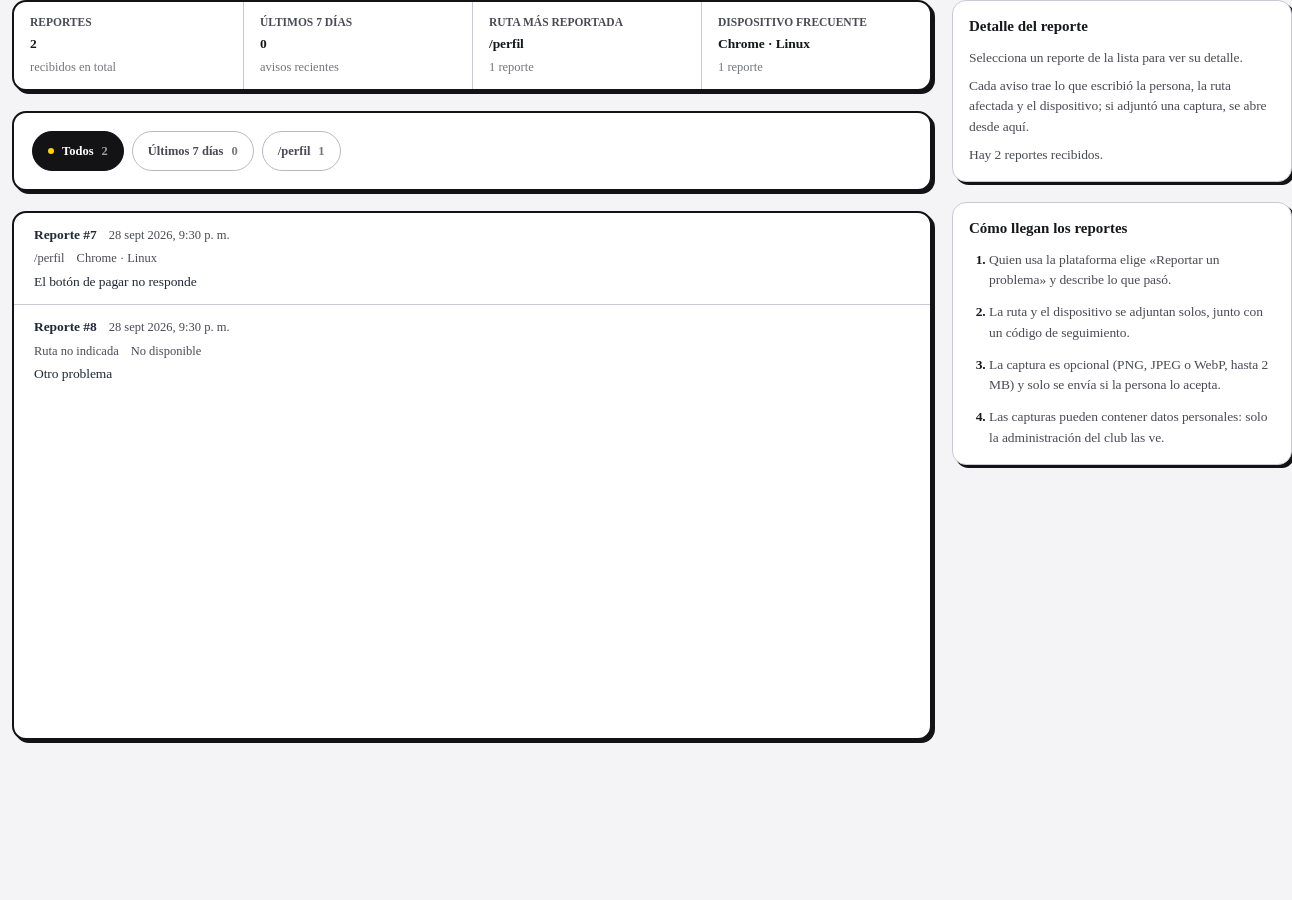
Test case: bandeja de reportes › keeps a detail failure next to the detail, with retry, and the list intact
The width and height of the screenshot is (1292, 900).
Click the button "Reporte #7" at [62, 235], box [14,213,930,304]
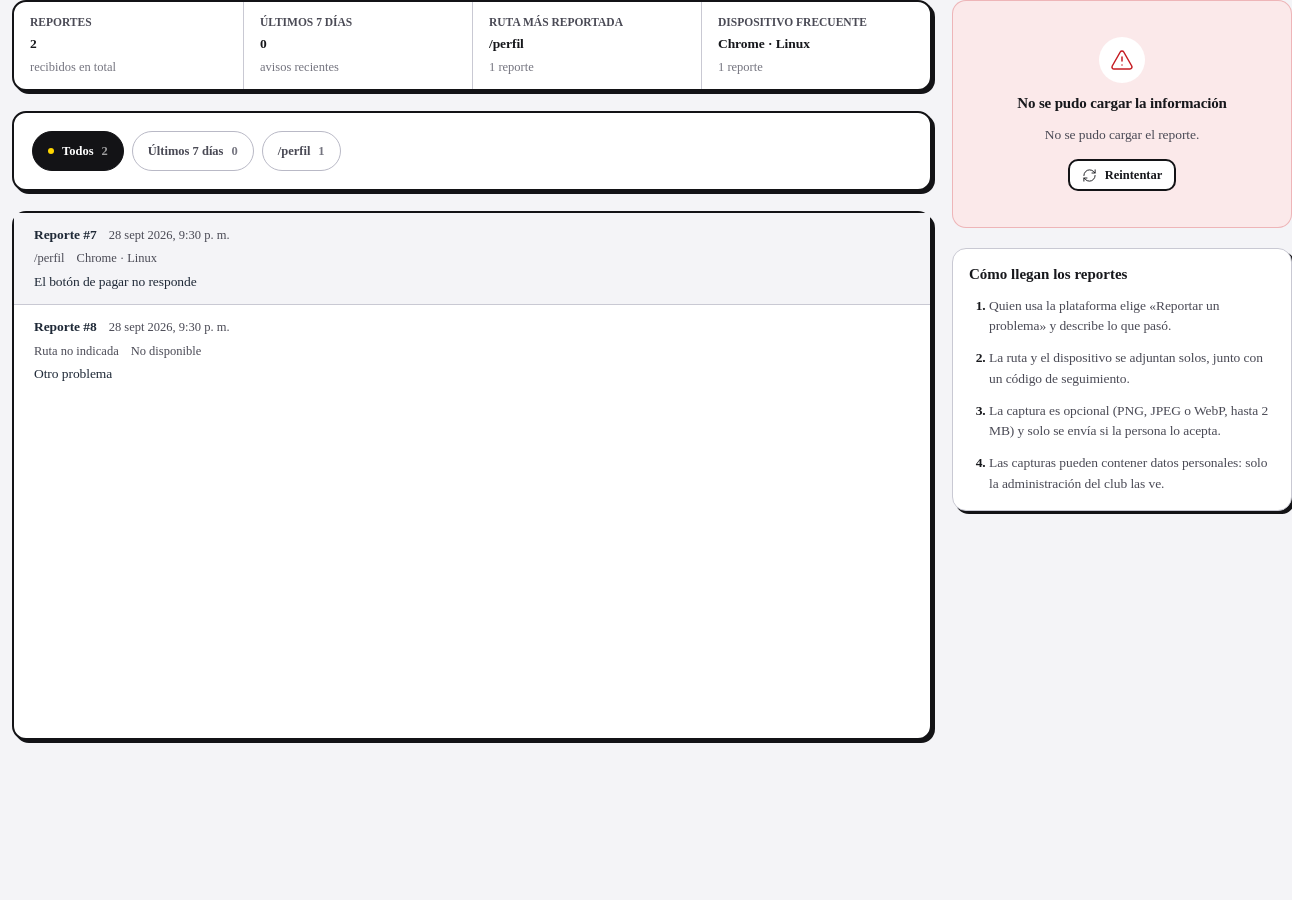
expect the button "Reporte #8" is shown: met, box [14,305,930,397]
expect the text "No se pudo cargar el reporte." is shown: met, box [1045,125,1199,145]
Click the button "Reintentar" at [1122, 175], box [1068,159,1176,191]
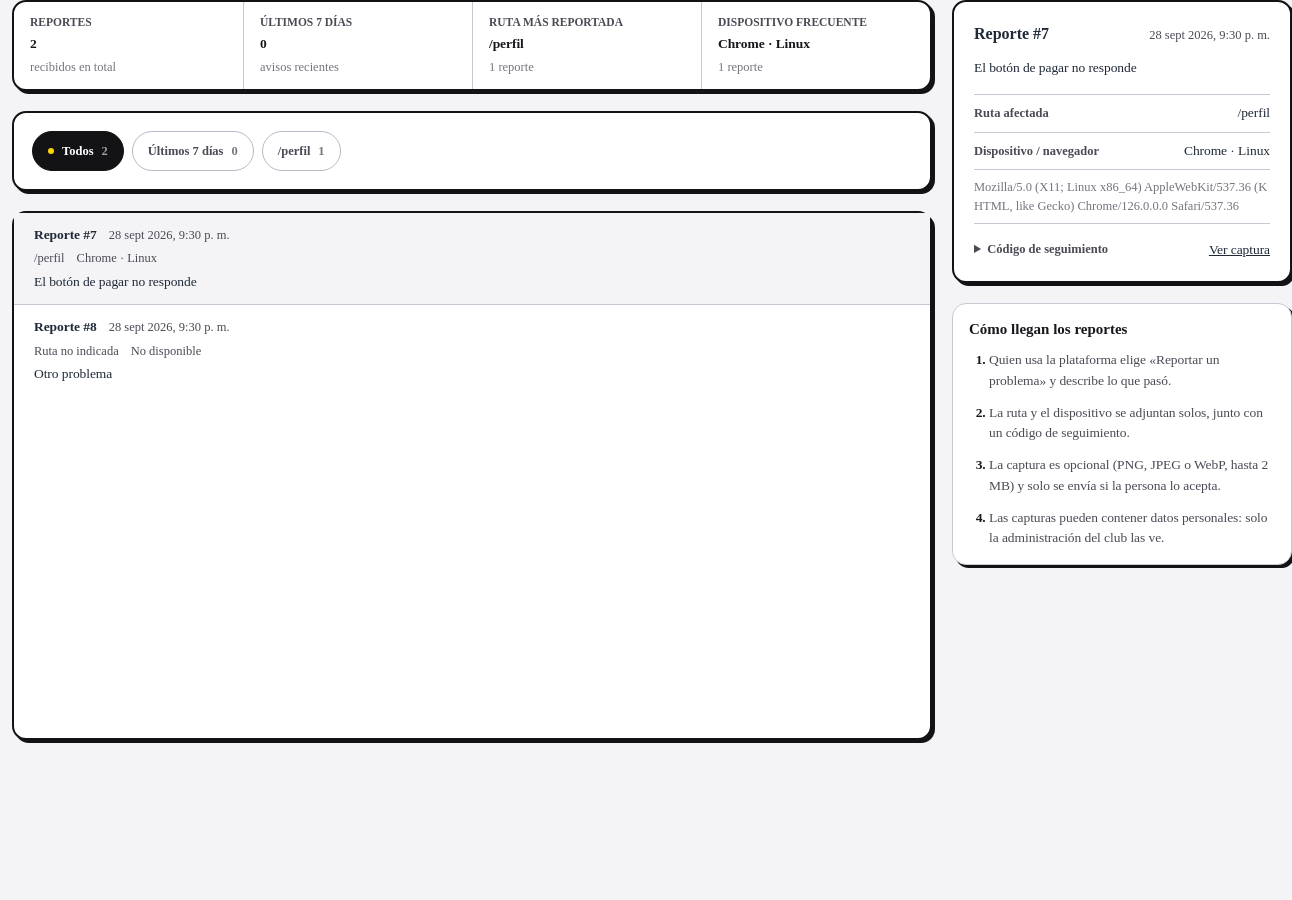
expect the element named "Detalle del reporte 7" is shown: met, box [952,0,1291,282]
expect the text "No se pudo cargar el reporte." is gone: met
